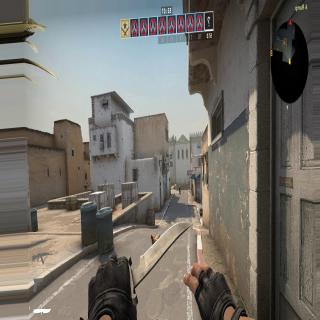CT-Body: (178, 185, 182, 194)
CT-Head: (180, 185, 180, 188)
